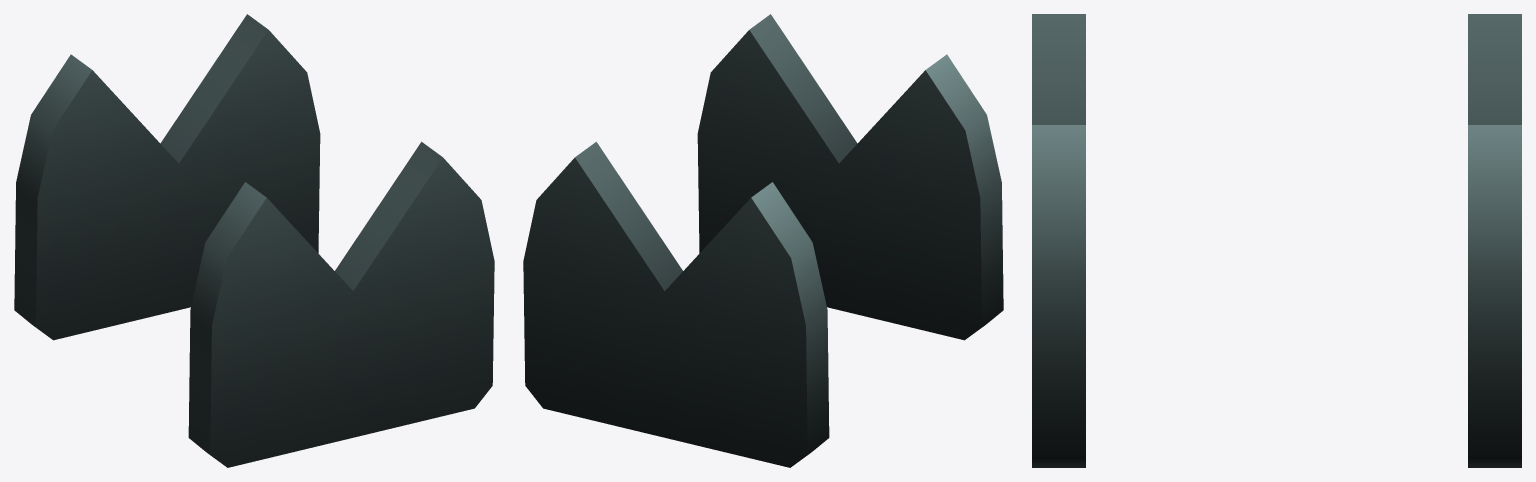
The model's file is Giant_Pipe_Support_1A.fbx.
The picture shows the model from 3 angles, left to right: view 1: azimuth 30°, elevation 25°; view 2: azimuth 150°, elevation 25°; view 3: azimuth 270°, elevation 25°; orthographic projection. The views are drawn at different scales.
Parts seen in each view (by area): view 1: Giant_Pipe_Support_1A; view 2: Giant_Pipe_Support_1A; view 3: Giant_Pipe_Support_1A.
Part boxes in pixels (x1,y1,x2,y2): Giant_Pipe_Support_1A: [14, 14, 494, 467]; Giant_Pipe_Support_1A: [523, 14, 1003, 467]; Giant_Pipe_Support_1A: [1032, 14, 1521, 467].
Bounding box in the file's own units: 2.01 × 1.77 × 2.4.
